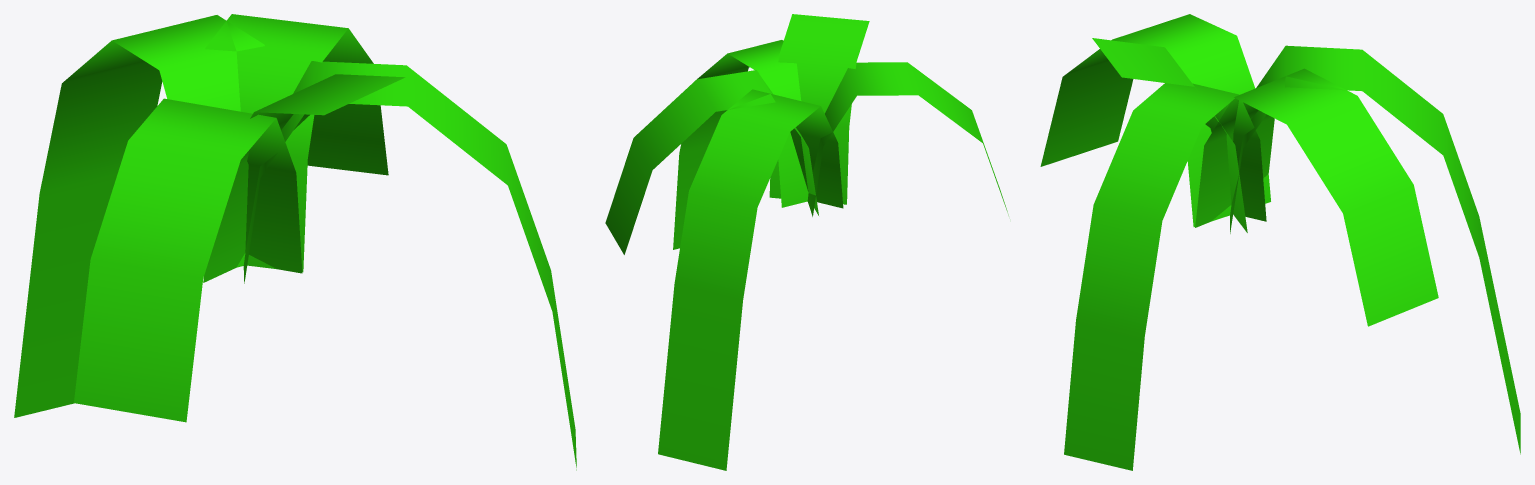
The model's file is Dead_Plant_01.fbx.
The picture shows the model from 3 angles, left to right: view 1: azimuth 30°, elevation 25°; view 2: azimuth 150°, elevation 25°; view 3: azimuth 270°, elevation 25°; orthographic projection. The views are drawn at different scales.
Visible parts, largest first — view 1: Dead_Plant_01; view 2: Dead_Plant_01; view 3: Dead_Plant_01.
Boxes of the visible parts, x1,y1,x2,y2 form: Dead_Plant_01: (14,14,576,470); Dead_Plant_01: (605,14,1008,470); Dead_Plant_01: (1040,14,1520,470).
Size of the model in its own units: 27.64 by 25.12 by 27.81.
